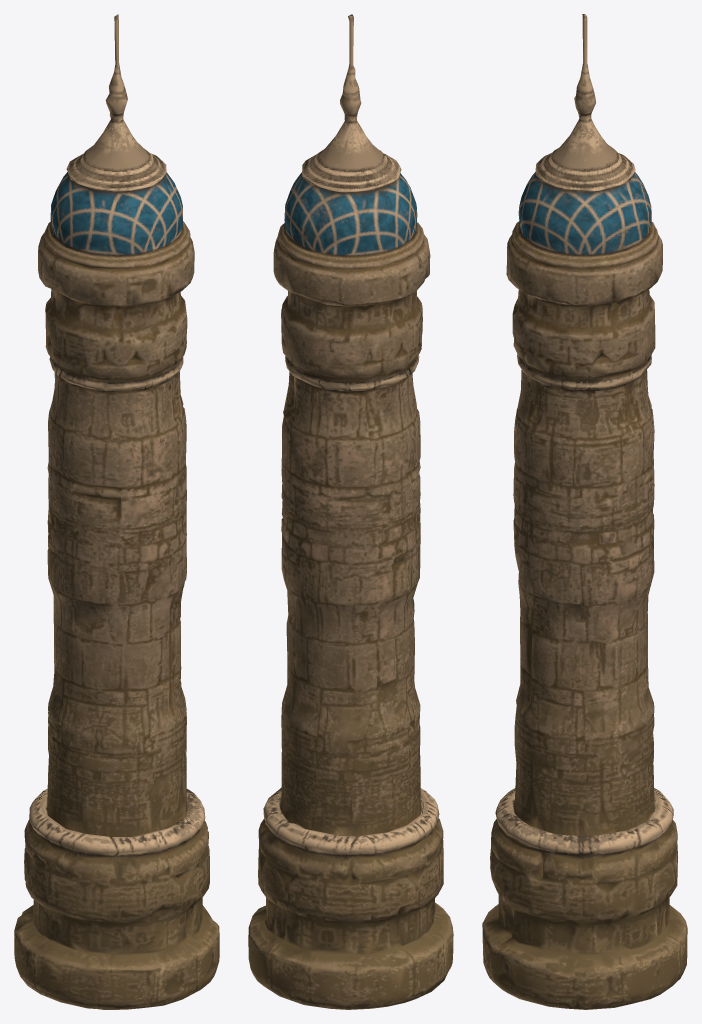
Rendered from bigtower2.fbx.
The picture shows the model from 3 angles, left to right: view 1: azimuth 30°, elevation 25°; view 2: azimuth 150°, elevation 25°; view 3: azimuth 270°, elevation 25°; orthographic projection.
Parts seen in each view (by area): view 1: DesertTemple_Pillar_Bulb_01; view 2: DesertTemple_Pillar_Bulb_01; view 3: DesertTemple_Pillar_Bulb_01.
Boxes of the visible parts, box(x1,y1,x2,y2) form: DesertTemple_Pillar_Bulb_01: box(14, 14, 219, 1009); DesertTemple_Pillar_Bulb_01: box(248, 14, 453, 1009); DesertTemple_Pillar_Bulb_01: box(482, 14, 687, 1009).
Bounding box in the file's own units: 204 × 1065 × 204.
